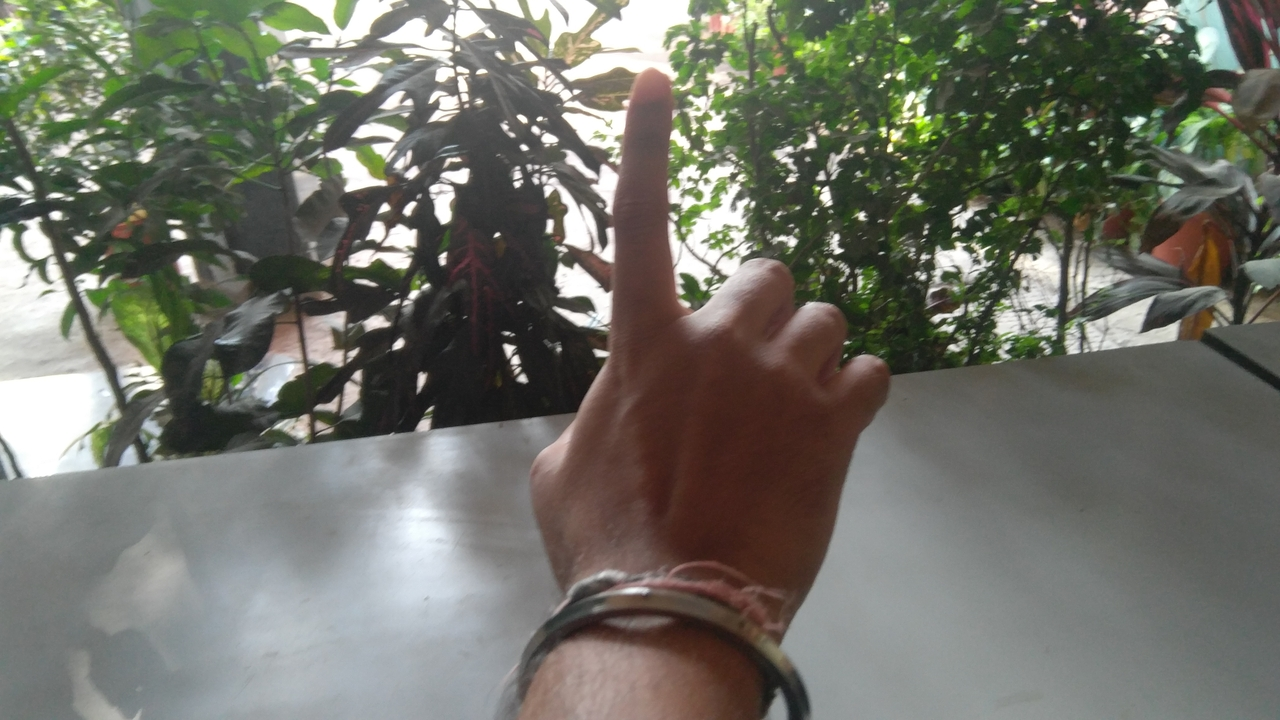fingertip: (626, 60, 674, 108)
